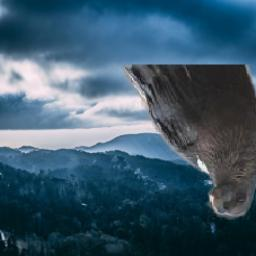Crow: (120, 66, 256, 221)
